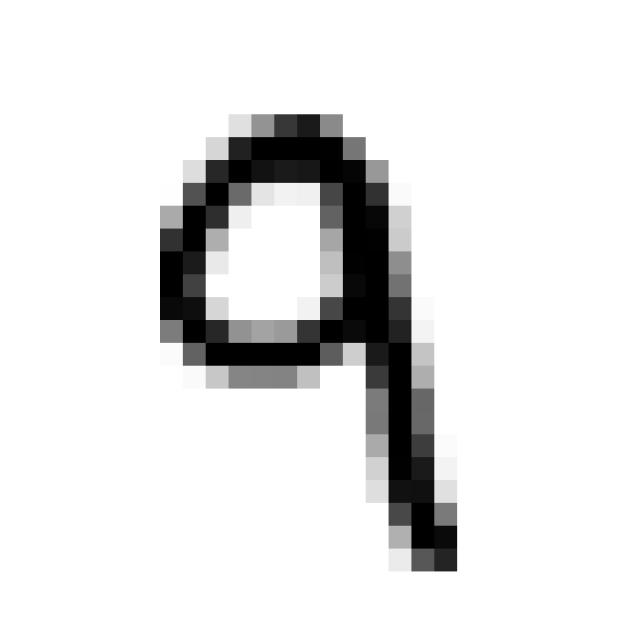9 -nine-: (132, 91, 484, 592)
